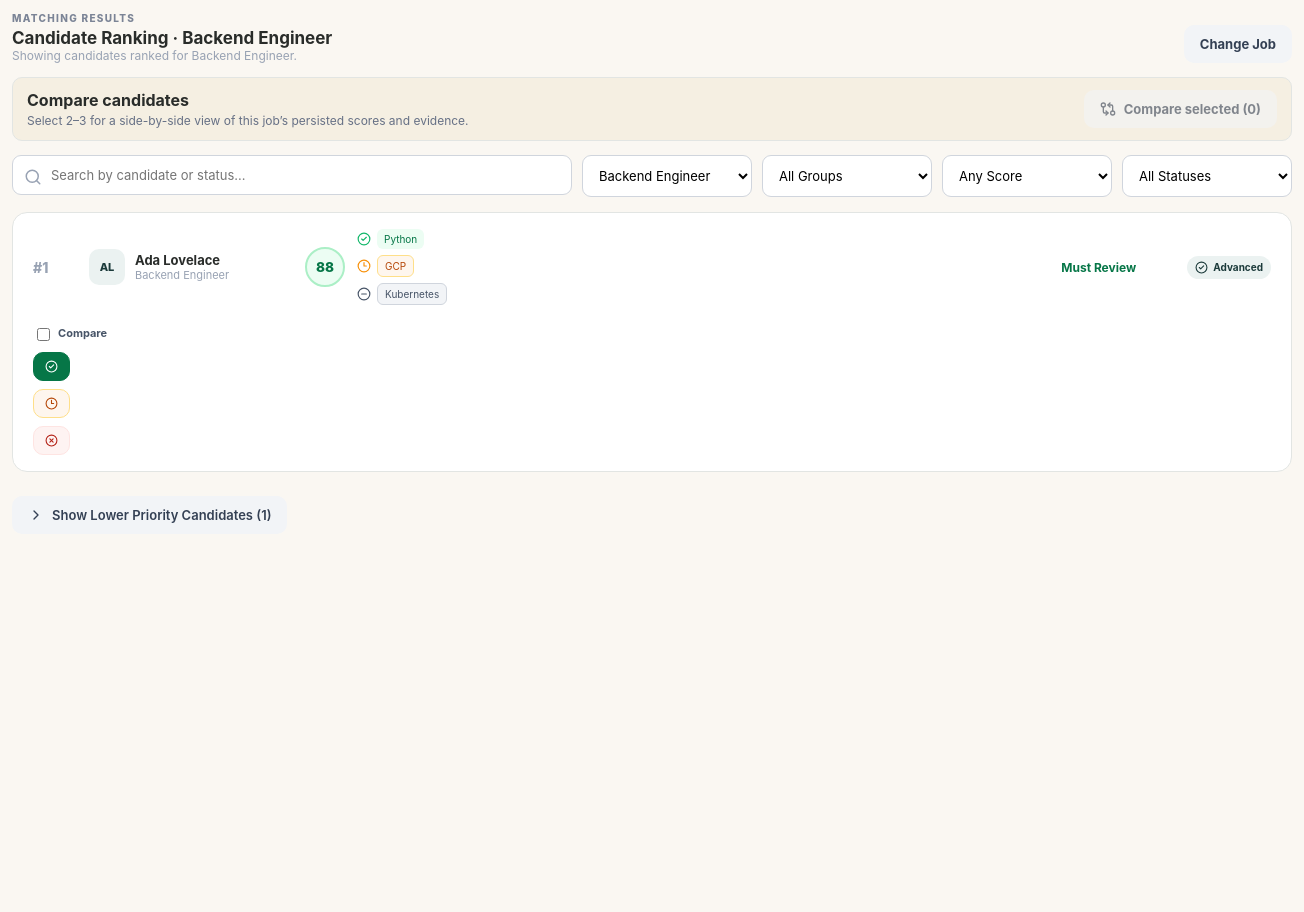
Test: MatchingResults fidelity: real backend-derived data › renders the backend group unchanged
Expected: the text "Ada Lovelace" is shown, top-left (135, 252), bottom-right (229, 268)
Expected: the text "Must Review" is shown, top-left (1061, 260), bottom-right (1136, 274)
// Katherine is in lower priority section
Click the button "Show Lower Priority Candidates (1)". click: (150,515)
box: top-left (12, 496), bottom-right (288, 534)
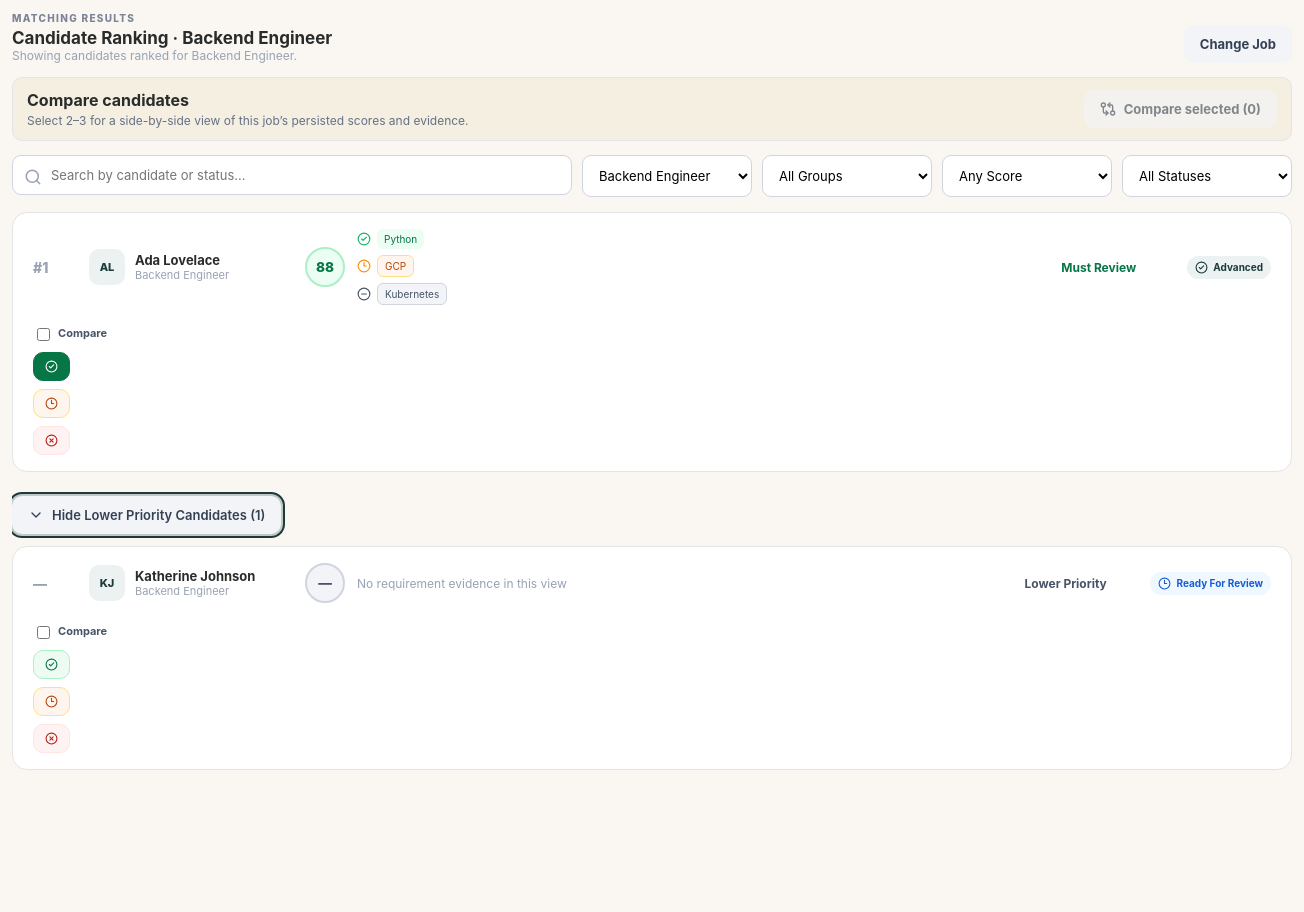
Now the text "Lower Priority" is shown, box top-left (1024, 576), bottom-right (1107, 590)
